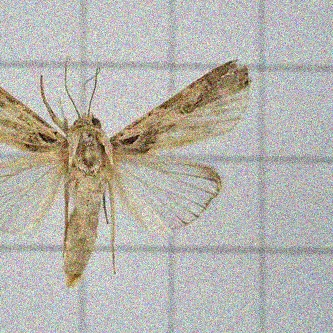Spodoptera litura: (0, 56, 253, 289)
